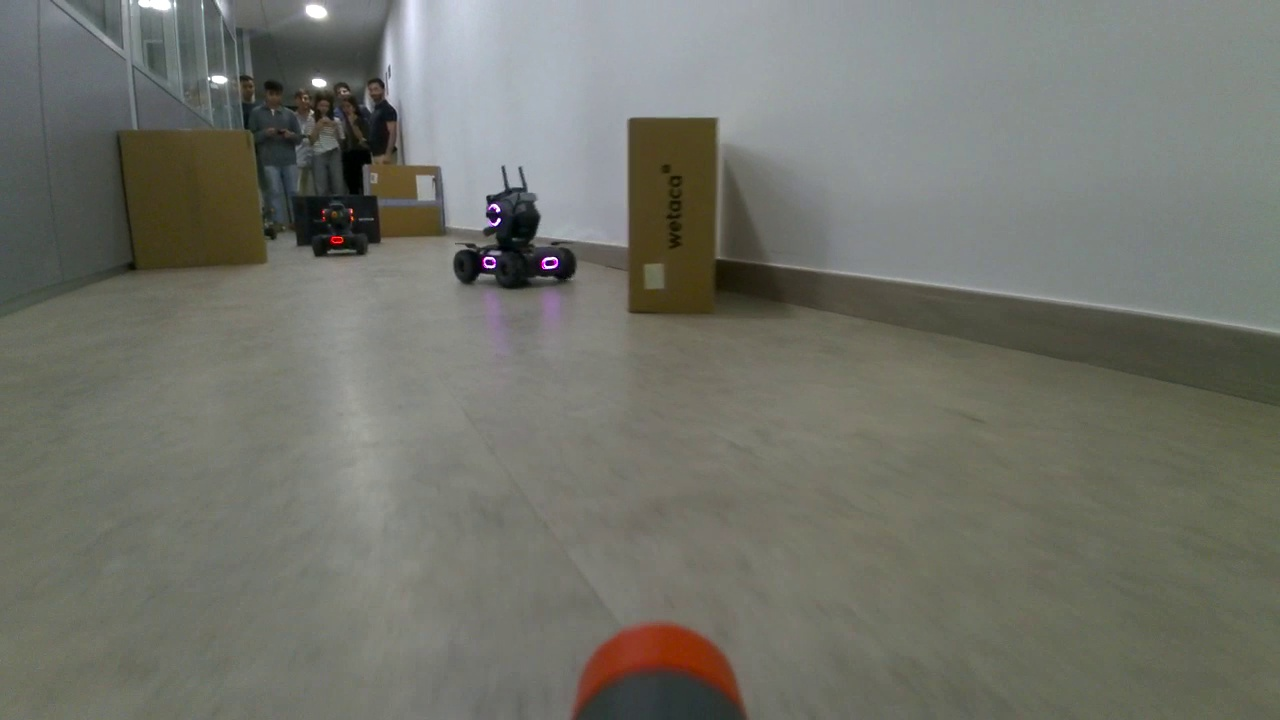robot: (452, 182, 580, 293), (309, 190, 370, 260)
